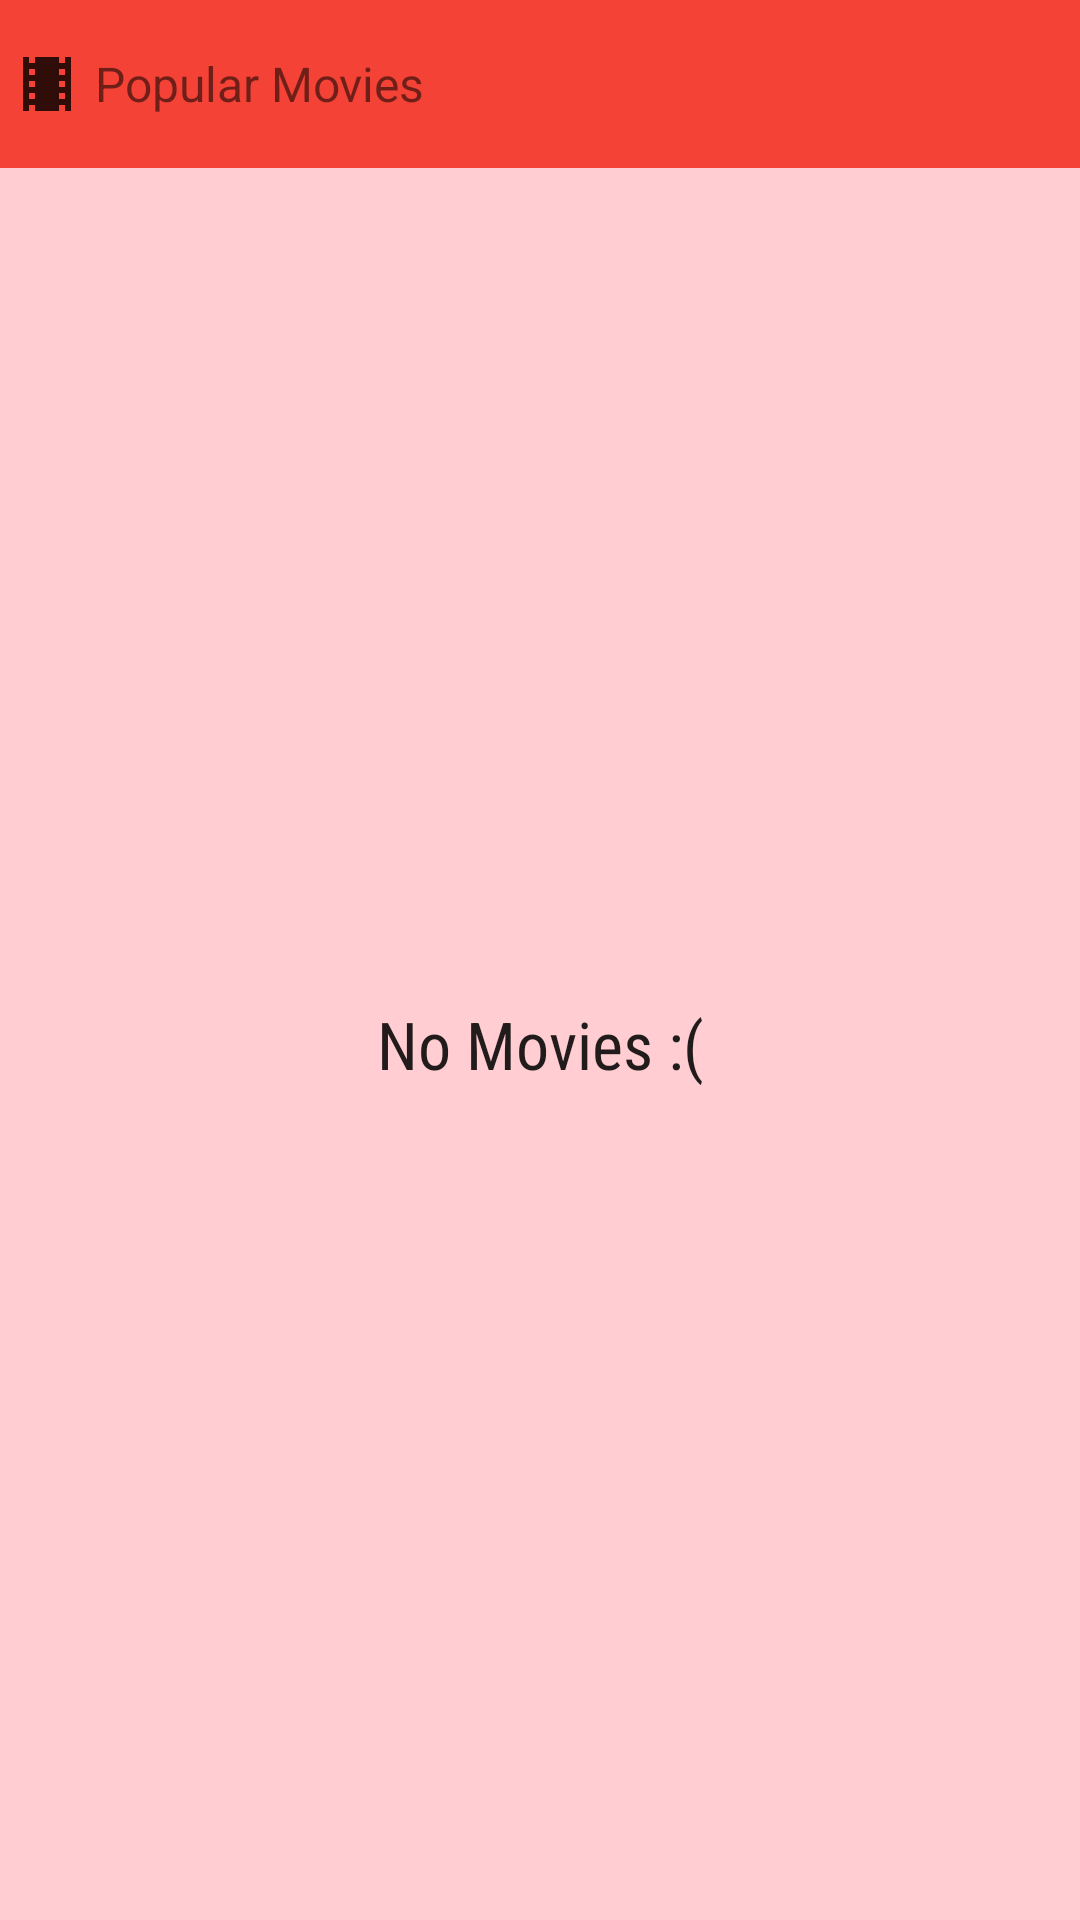

Locate icon controls on the screen. Image size 1080*1920, boxes as (x1,y1,x2,y2).
local movies: (23,57,71,111)
